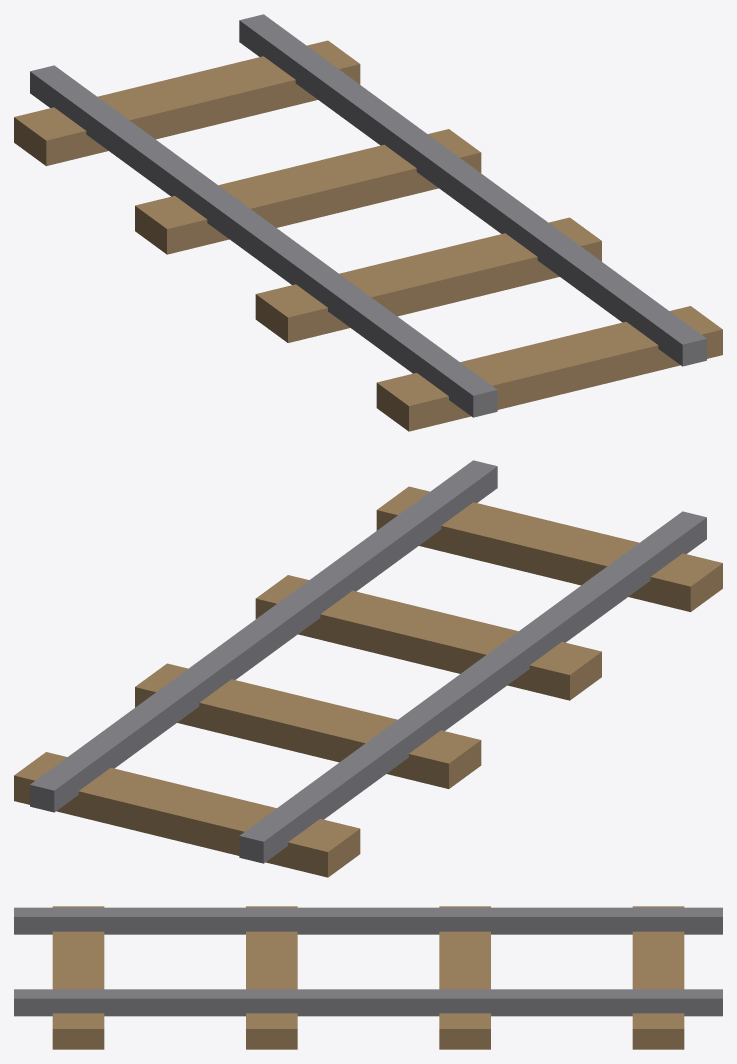
File: rails.glb
3 renders of one model, top to bottom at view 1: azimuth 30°, elevation 25°; view 2: azimuth 150°, elevation 25°; view 3: azimuth 270°, elevation 25°, orthographic. The views are drawn at different scales.
Visible parts, largest first — view 1: Cube.001, Cube, Cube.002, Cube.005, Cube.003, Cube.004; view 2: Cube.001, Cube, Cube.005, Cube.002, Cube.004, Cube.003; view 3: Cube, Cube.001, Cube.002, Cube.005, Cube.003, Cube.004.
Boxes of the visible parts, box(x1,y1,x2,y2) form: Cube.001: box(239, 14, 706, 366); Cube: box(30, 65, 497, 417); Cube.002: box(376, 306, 722, 431); Cube.005: box(14, 40, 360, 166); Cube.003: box(255, 217, 601, 342); Cube.004: box(135, 129, 481, 254); Cube.001: box(30, 460, 497, 812); Cube: box(239, 511, 706, 863); Cube.005: box(14, 752, 360, 877); Cube.002: box(376, 486, 722, 612); Cube.004: box(135, 663, 481, 788); Cube.003: box(255, 575, 601, 700); Cube: box(14, 907, 722, 934); Cube.001: box(14, 989, 722, 1016); Cube.002: box(52, 906, 104, 1049); Cube.005: box(632, 906, 684, 1049); Cube.003: box(246, 906, 297, 1049); Cube.004: box(439, 906, 490, 1049).
Bounding box in the file's own units: 0.9 × 0.12 × 2.2.
